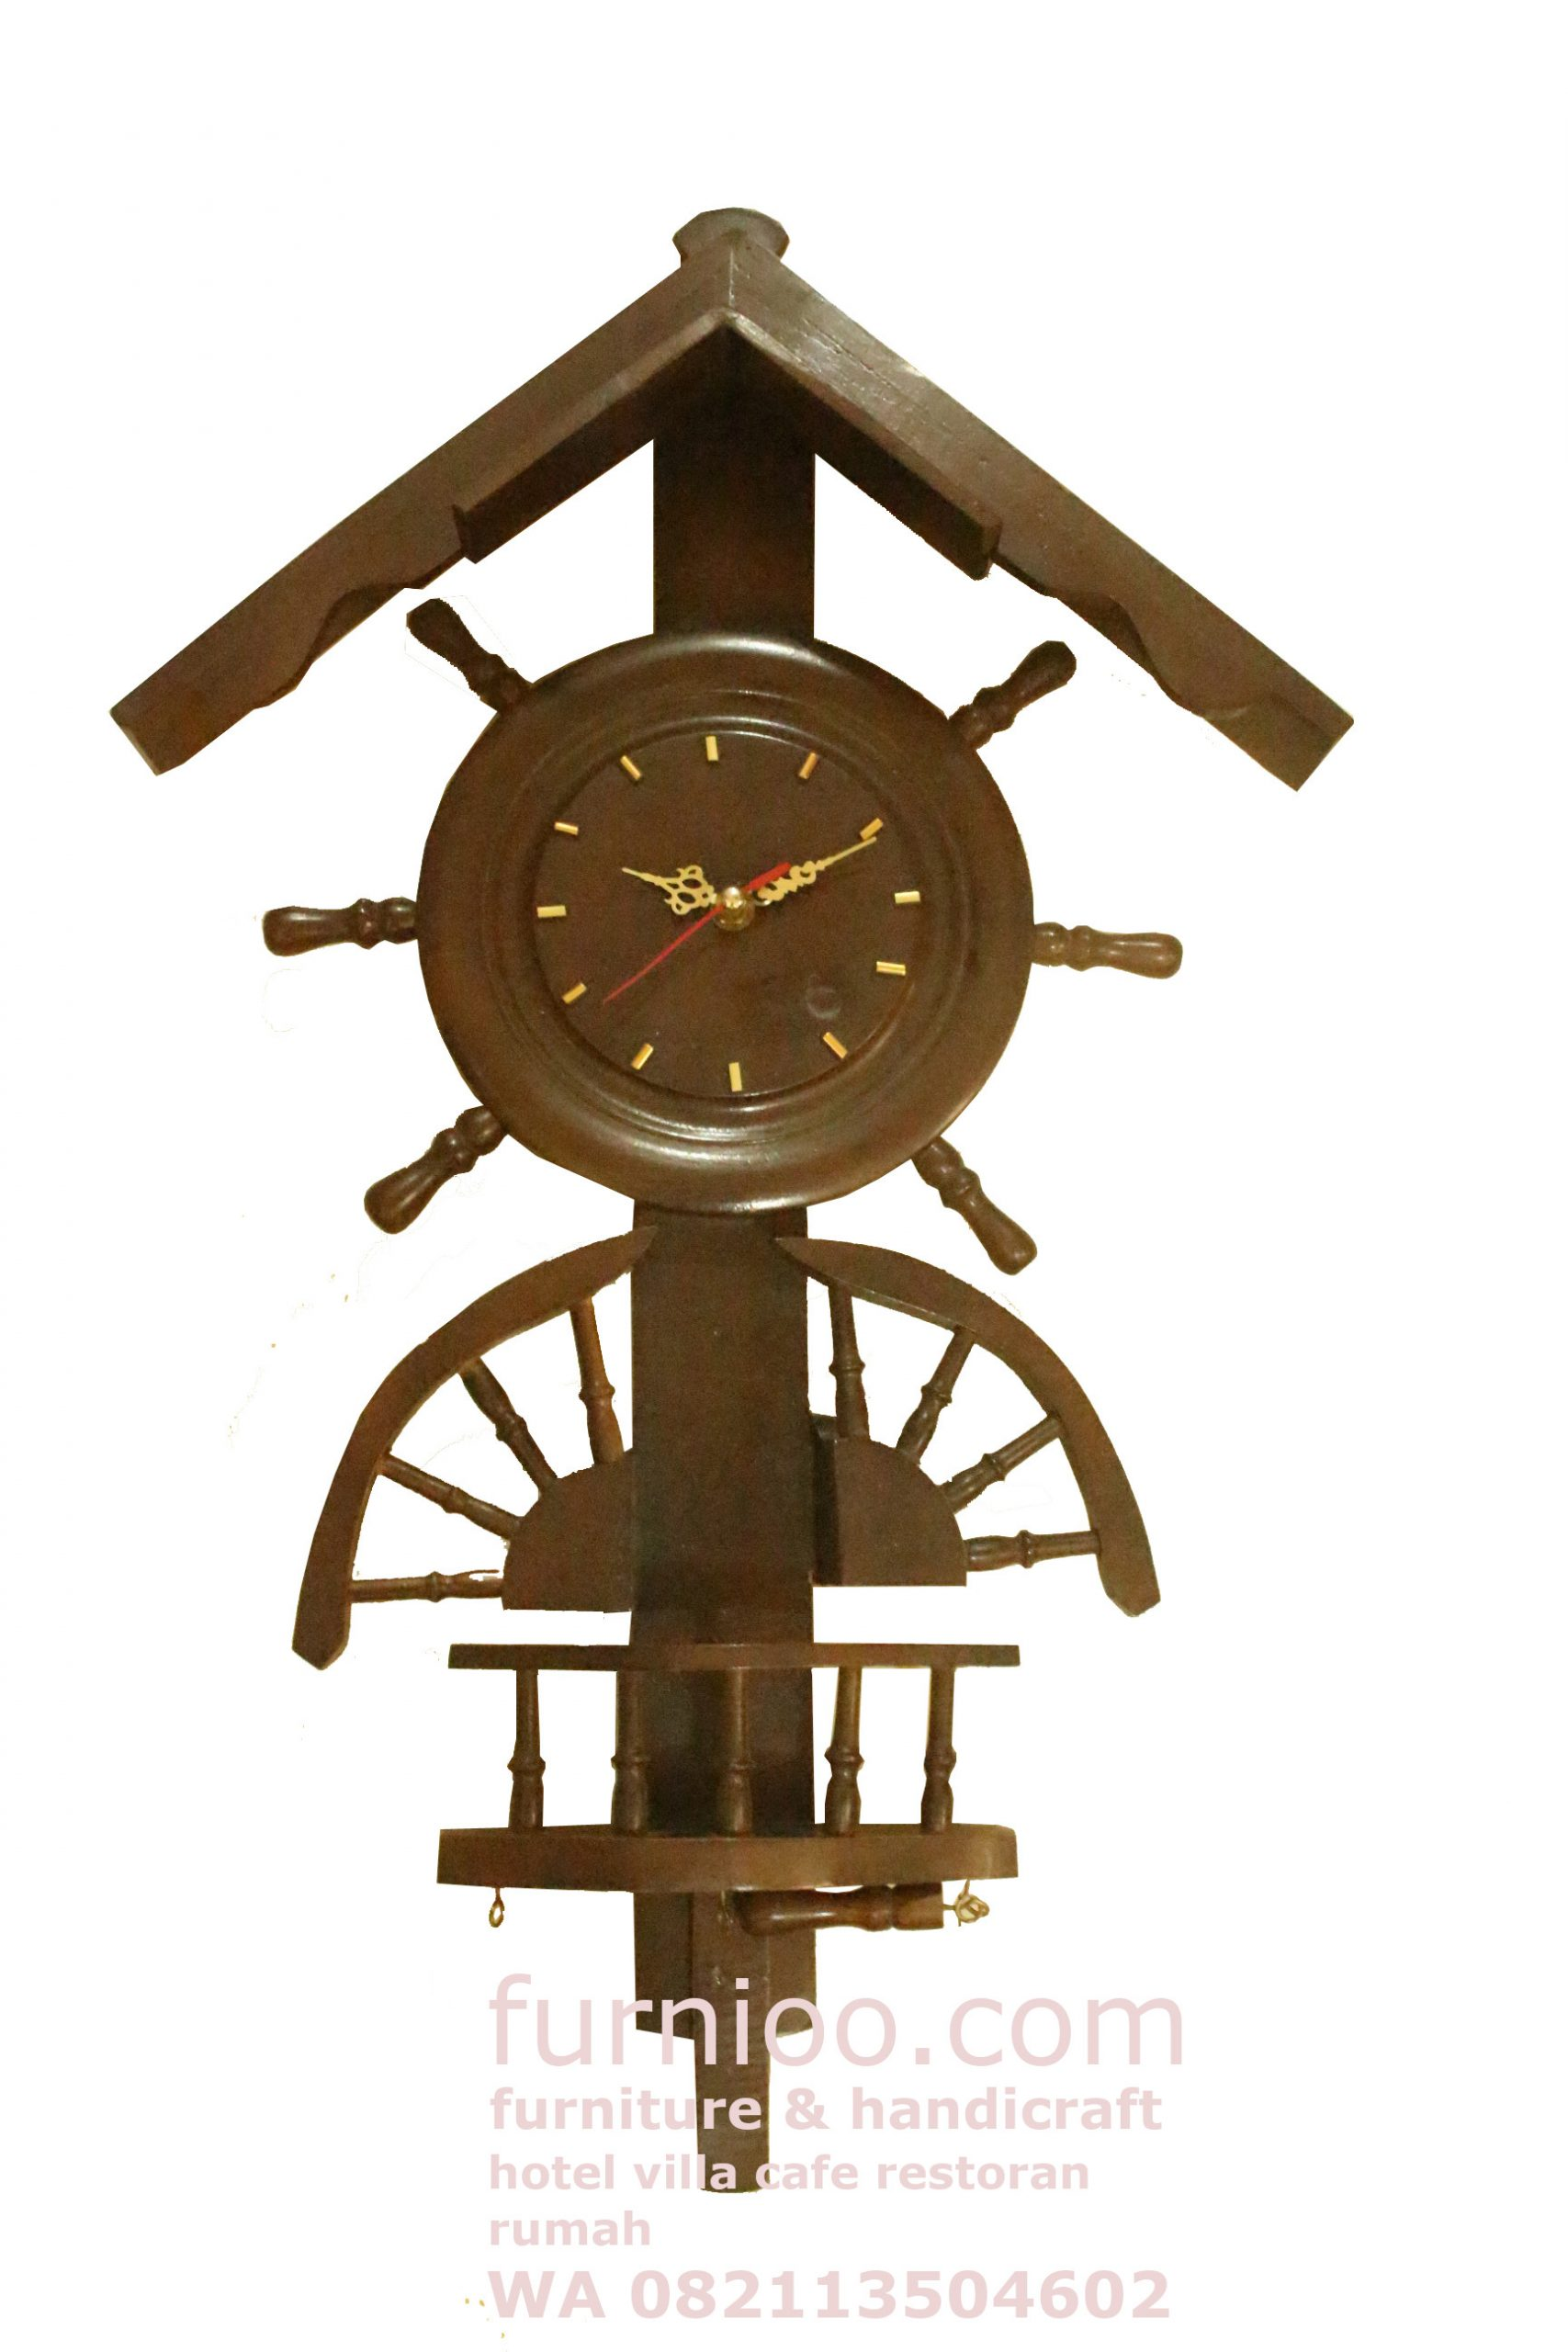jam dinding: (72, 161, 1363, 2105)
